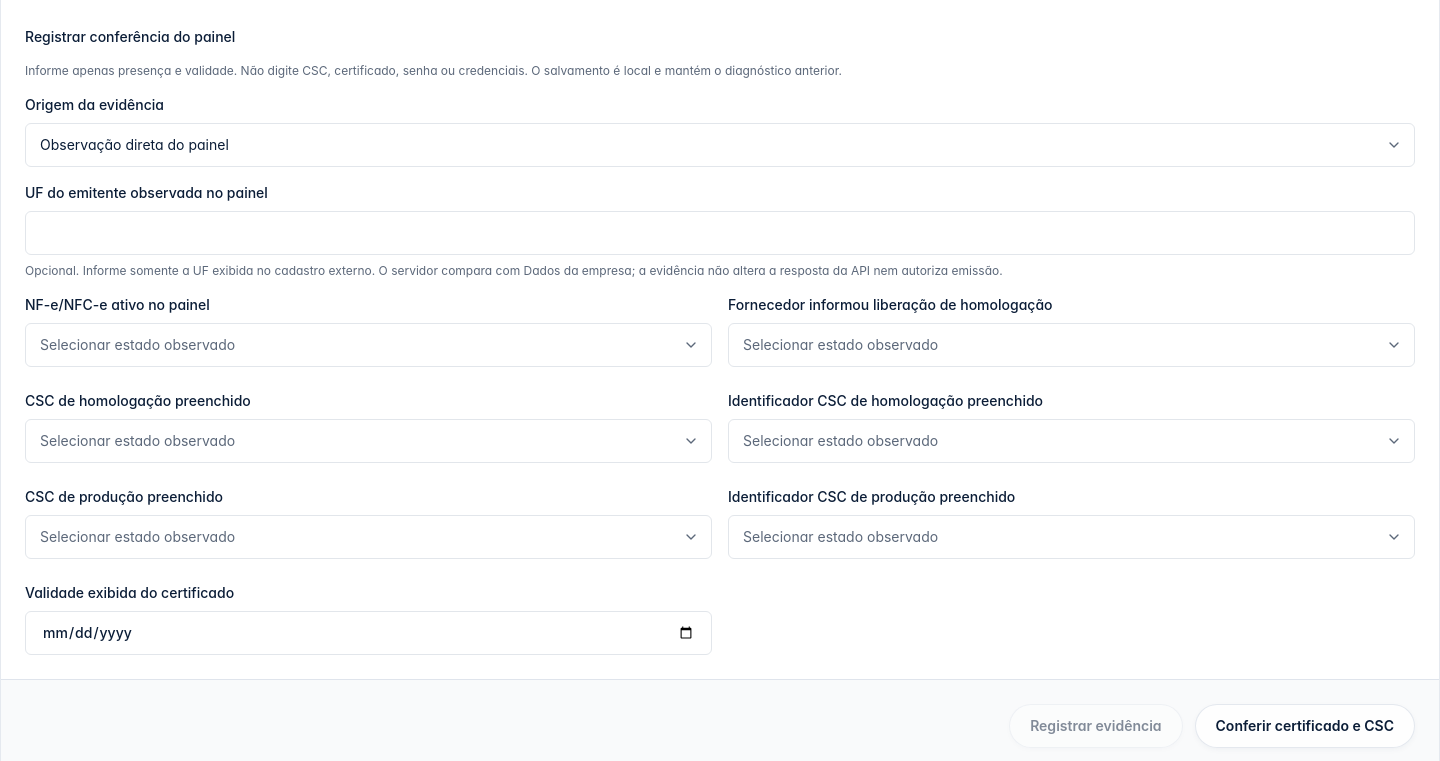
Test case: Pré-requisitos administrativos: ações explícitas e estados reais › botão de leitura impede dupla execução e não registra painel
(page scrolled)
Click the button "Conferir certificado e CSC".
click(1305, 726)  # box [1194, 704, 1415, 748]
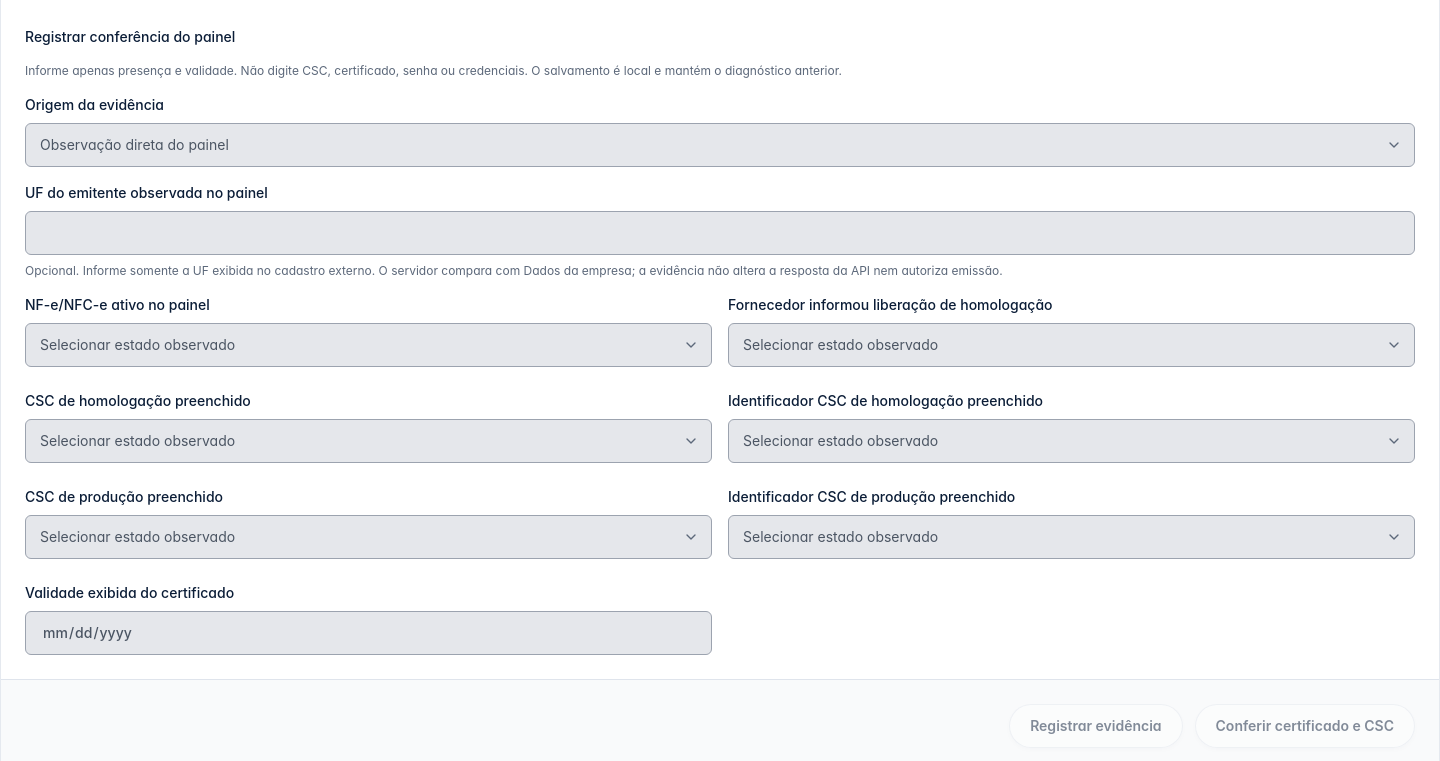
Click the button "Conferir certificado e CSC".
click(1305, 726)  # box [1194, 704, 1415, 748]
(page scrolled)
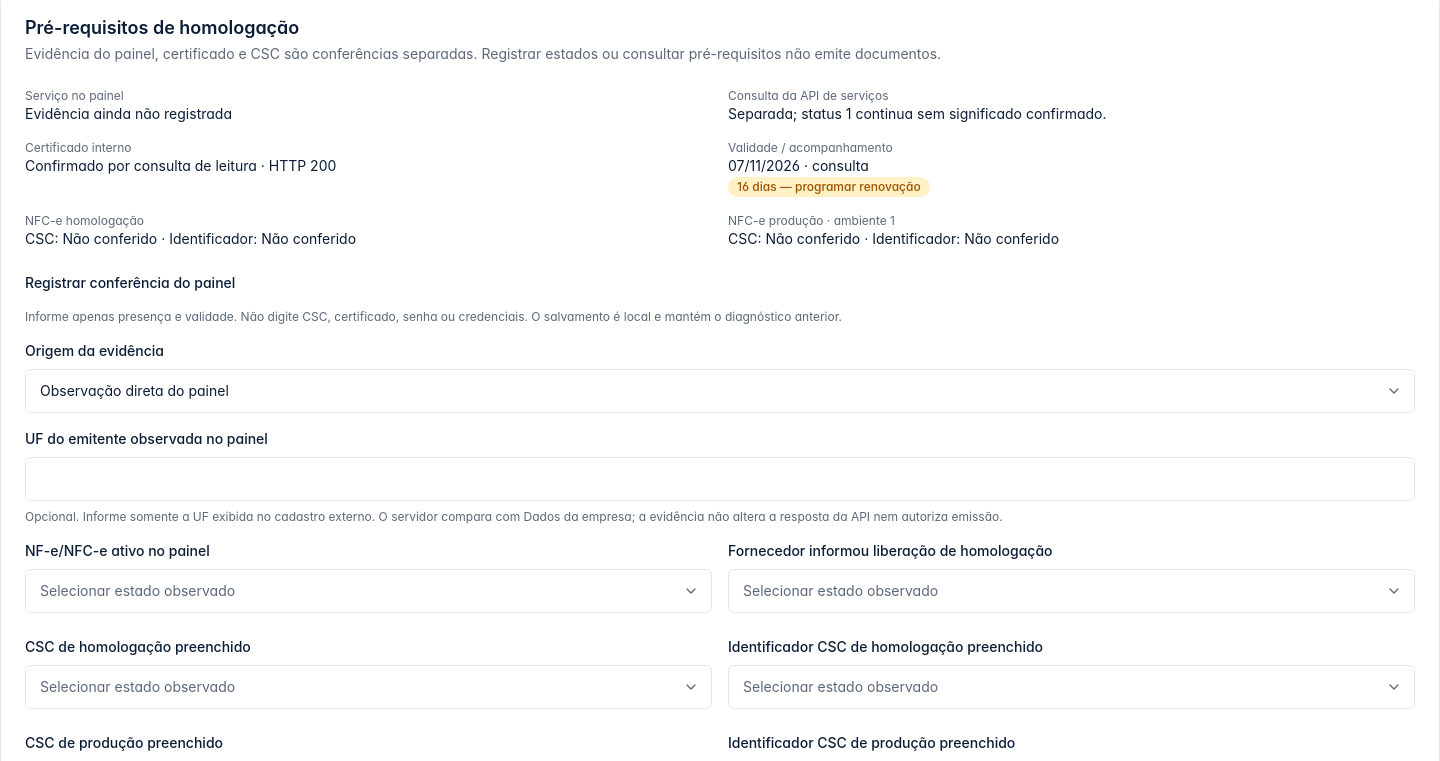
Result: the text "Confirmado por consulta de leitura · HTTP 200" is shown at [25, 157, 336, 174]
